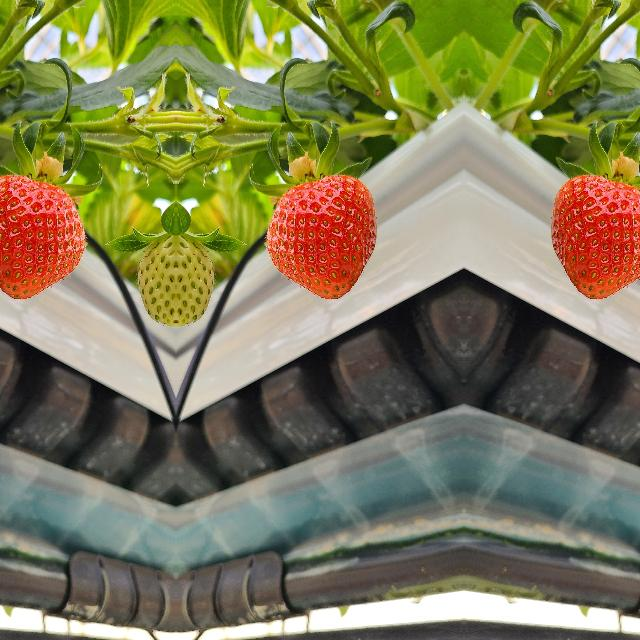Health_100: (263, 173, 377, 301), (549, 173, 640, 301), (0, 173, 87, 301)
